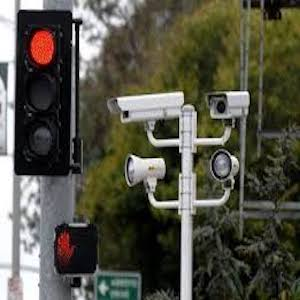red: (52, 233, 83, 279)
